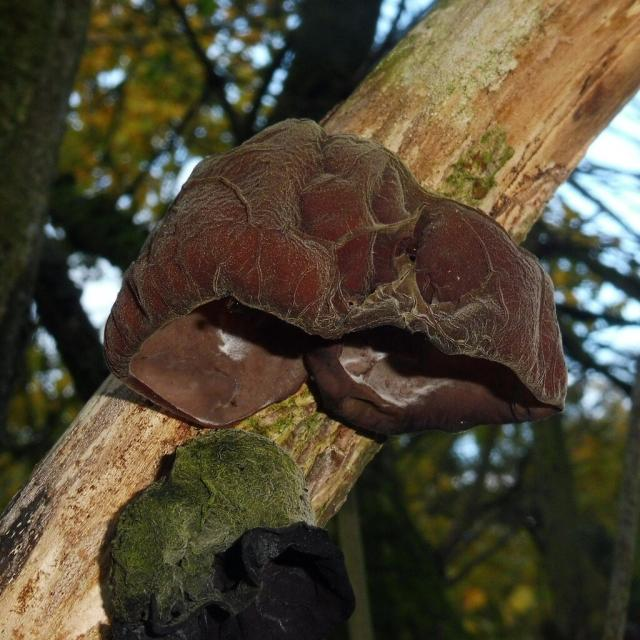Matang: (103, 106, 575, 430)
